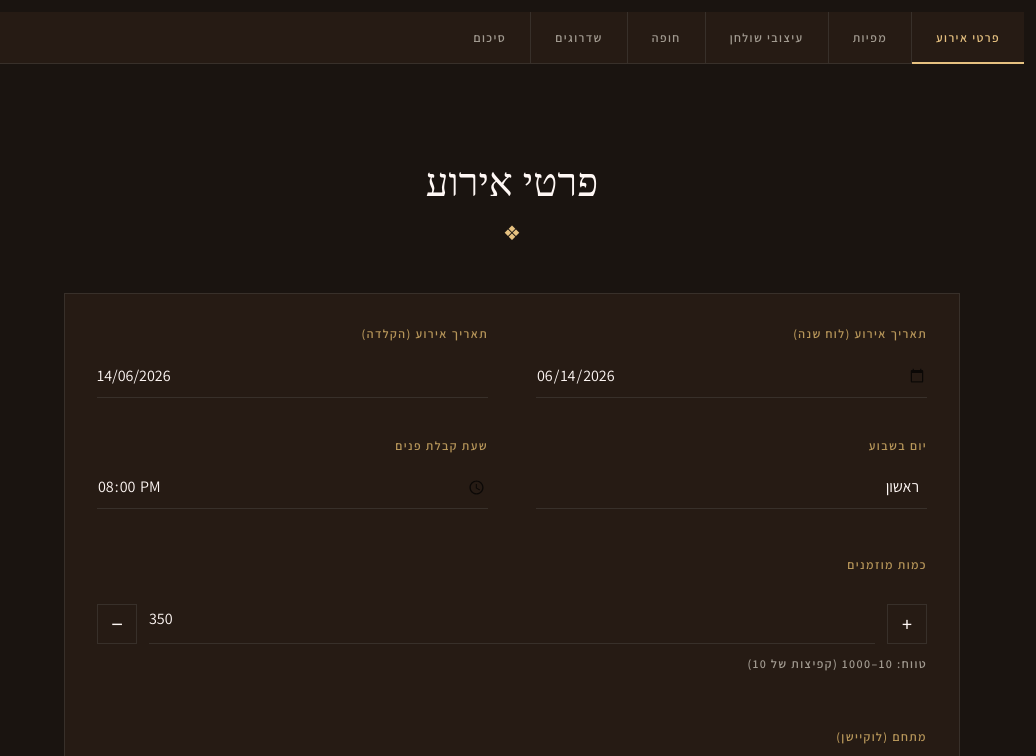
EventTabs — INV-01 table-design selection cap (≤ 5) › removing a selection re-enables the gallery button (5 → 4)
What coordinates should you click on to do the following:
click the tab with test id "event-tab-tableDesigns"
I would click on:
 (766, 38)
Its box is x1=705 y1=12 x2=828 y2=63.
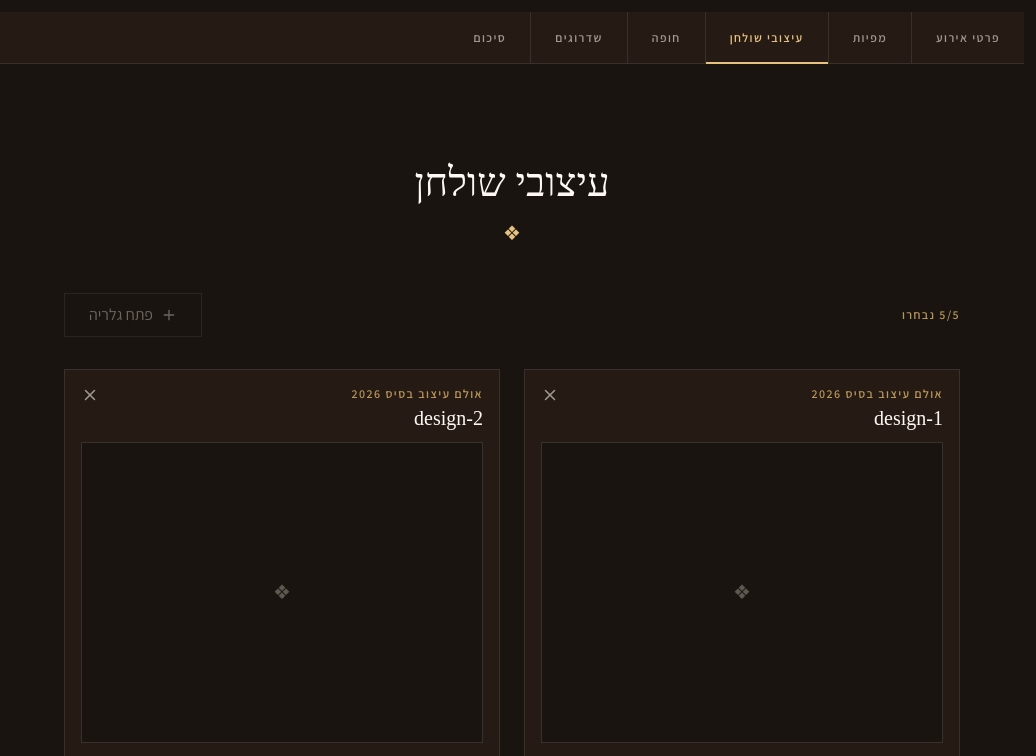
What coordinates should you click on to do the following:
click the 2nd button named "הסר בחירה"
I would click on:
 (550, 395)
Its box is x1=541 y1=386 x2=559 y2=404.
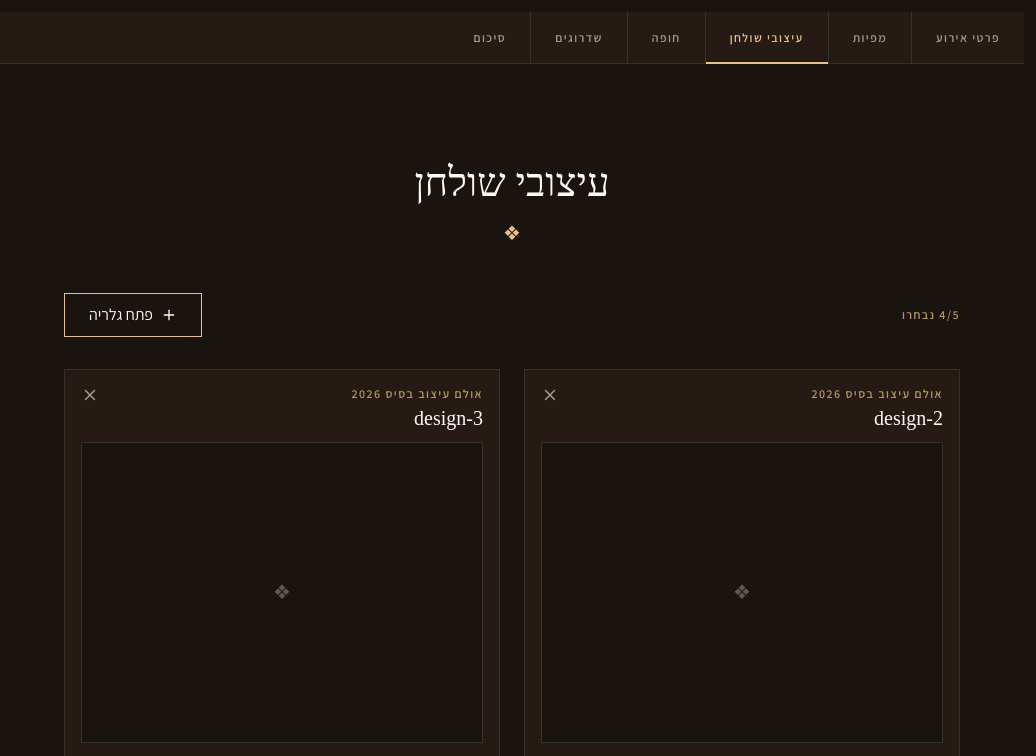
Check: the text with test id "selection-counter" shows "4/5", box x1=902 y1=307 x2=960 y2=323
Check: the button with test id "open-gallery-tableDesigns-button" is enabled, box x1=64 y1=293 x2=202 y2=337
